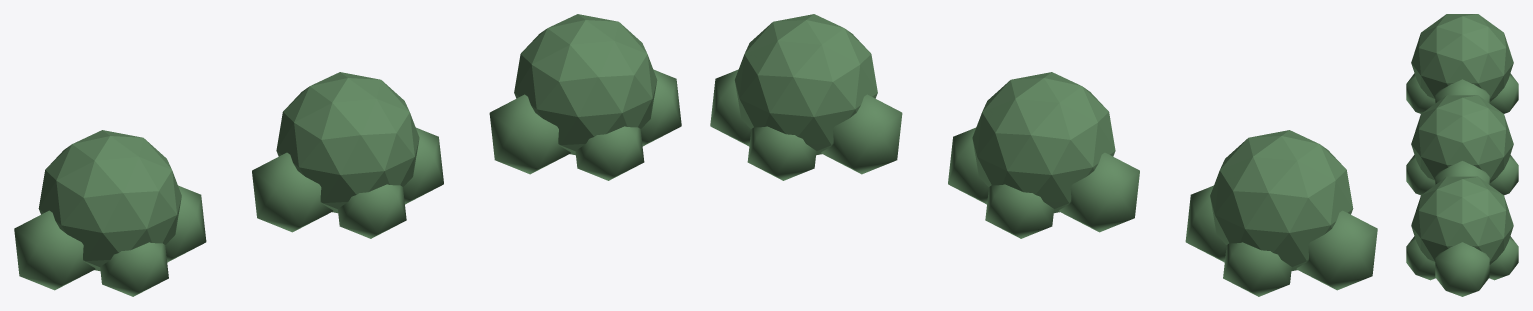
File: bushes.glb
The picture shows the model from 3 angles, left to right: view 1: azimuth 30°, elevation 25°; view 2: azimuth 150°, elevation 25°; view 3: azimuth 270°, elevation 25°; orthographic projection. The views are drawn at different scales.
Parts seen in each view (by area): view 1: Bush_02, Bush_03, Bush_01; view 2: Bush_02, Bush_03, Bush_01; view 3: Bush_01, Bush_03, Bush_02.
Boxes of the visible parts, x1,y1,x2,y2 form: Bush_02: (252, 72, 443, 238); Bush_03: (14, 130, 206, 296); Bush_01: (489, 14, 681, 180); Bush_02: (948, 72, 1139, 238); Bush_03: (1185, 130, 1377, 296); Bush_01: (710, 14, 902, 180); Bush_01: (1406, 176, 1518, 296); Bush_03: (1406, 14, 1518, 113); Bush_02: (1406, 95, 1518, 195).
Size of the model in its own units: 4.15 by 0.87 by 0.8743.
